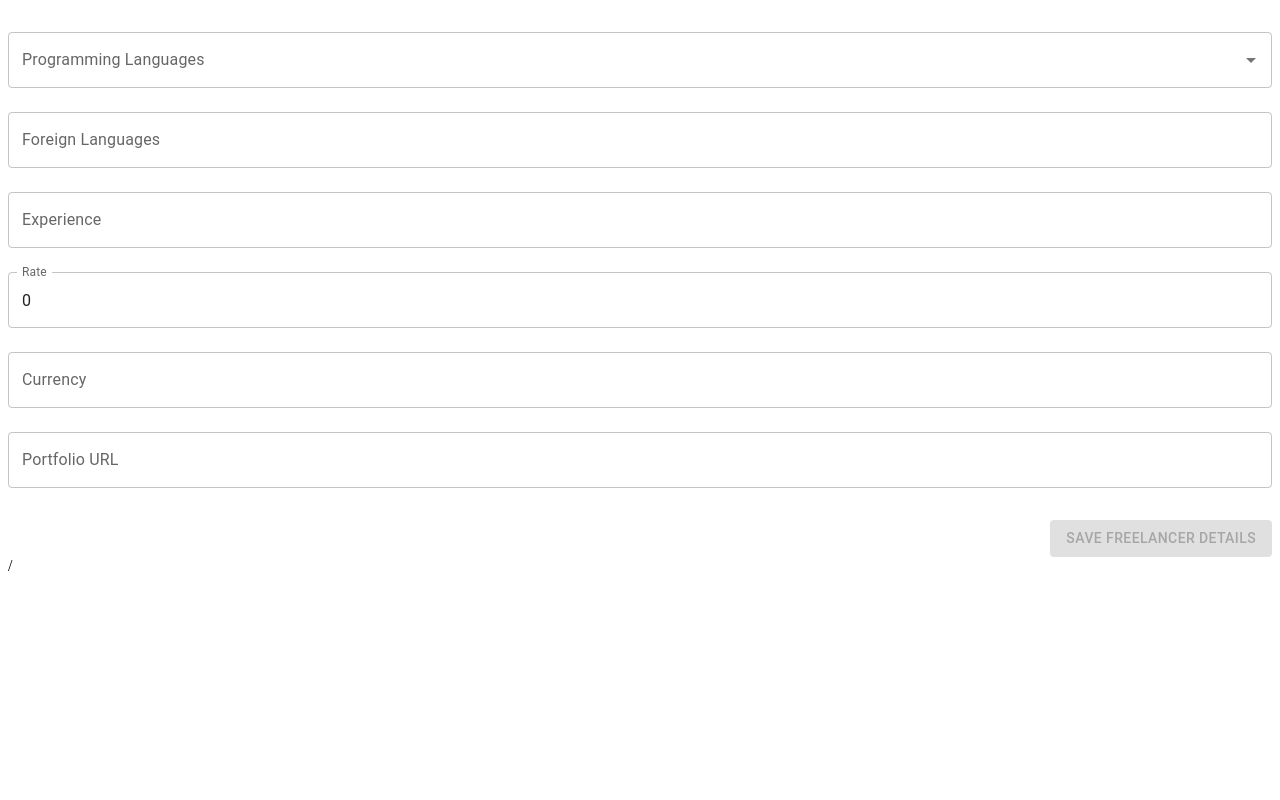
Test case: offers no options when both lookups fail
Click the dropdown labelled "Programming Languages" at (625, 60), box [17,41,1233,79]
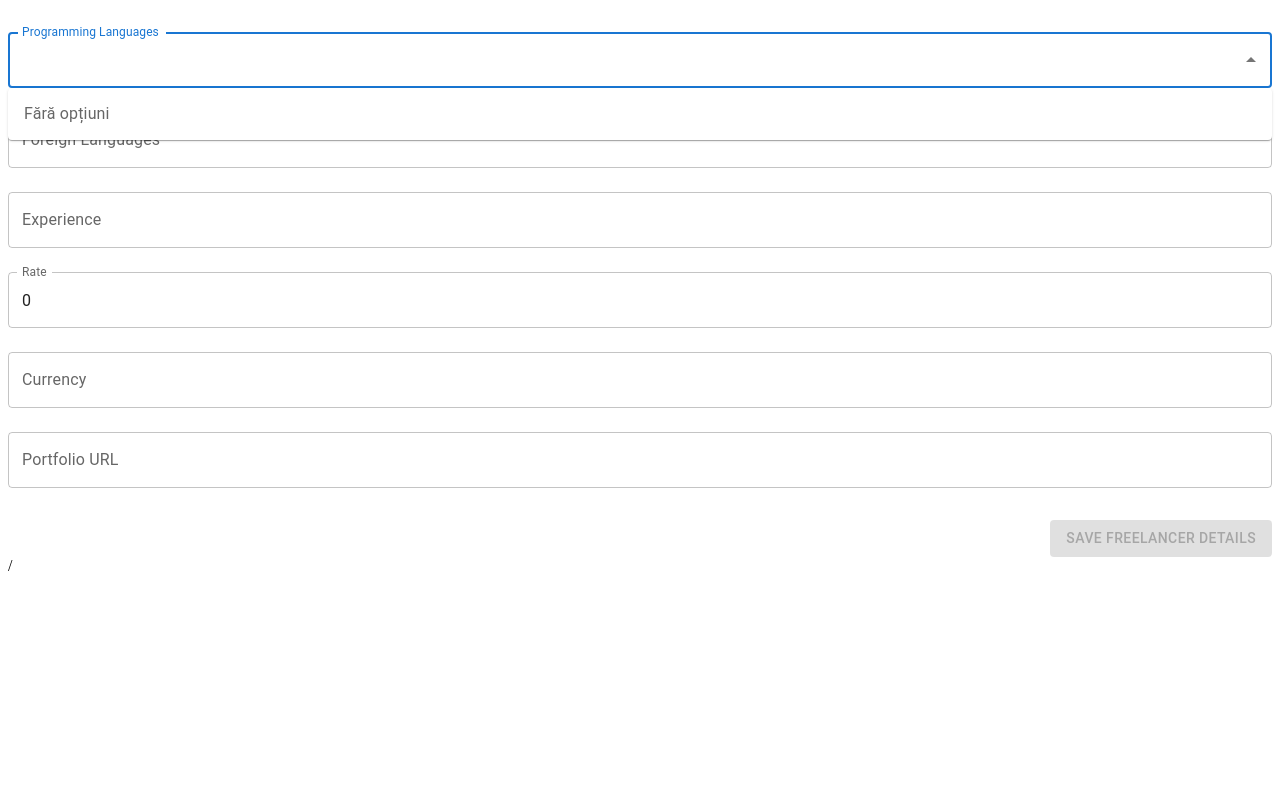
Expected: the text "Fără opțiuni" is shown, [24,104,110,123]
